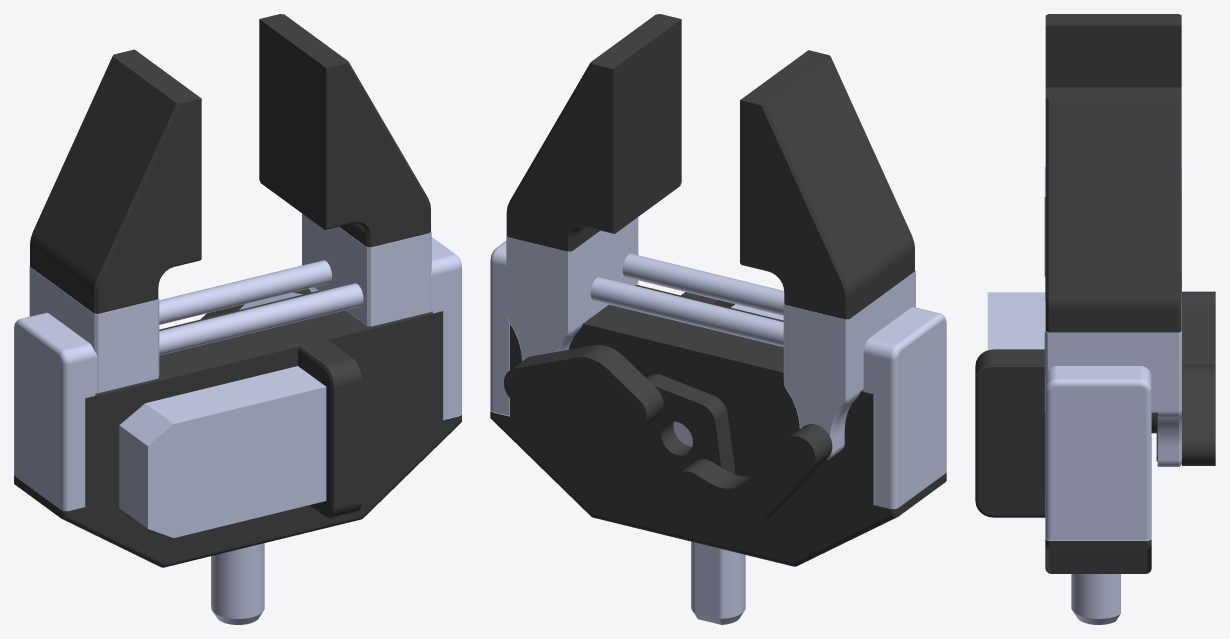
File: gripper.dae
3 views of the same model, side by side, from view 1: azimuth 30°, elevation 25°; view 2: azimuth 150°, elevation 25°; view 3: azimuth 270°, elevation 25° (orthographic).
Visible parts, largest first — view 1: _3DGeom-241, _3DGeom-242; view 2: _3DGeom-241, _3DGeom-242; view 3: _3DGeom-241, _3DGeom-242.
Boxes of the visible parts, x1=… form: _3DGeom-241: x1=14, y1=14, x2=461, y2=567; _3DGeom-242: x1=14, y1=213, x2=461, y2=624; _3DGeom-241: x1=490, y1=14, x2=946, y2=566; _3DGeom-242: x1=490, y1=217, x2=946, y2=624; _3DGeom-241: x1=975, y1=14, x2=1215, y2=573; _3DGeom-242: x1=987, y1=167, x2=1181, y2=624.
Size of the model in its own units: 0.077 by 0.0395 by 0.1015.
